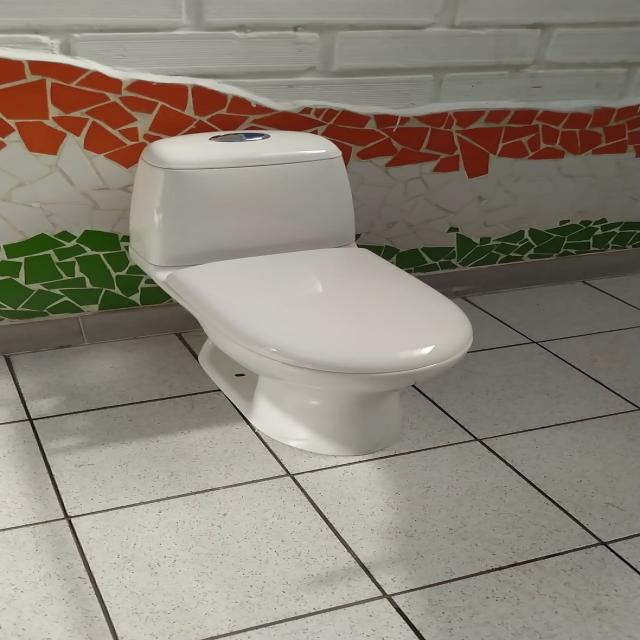toilet: (126, 129, 474, 456)
